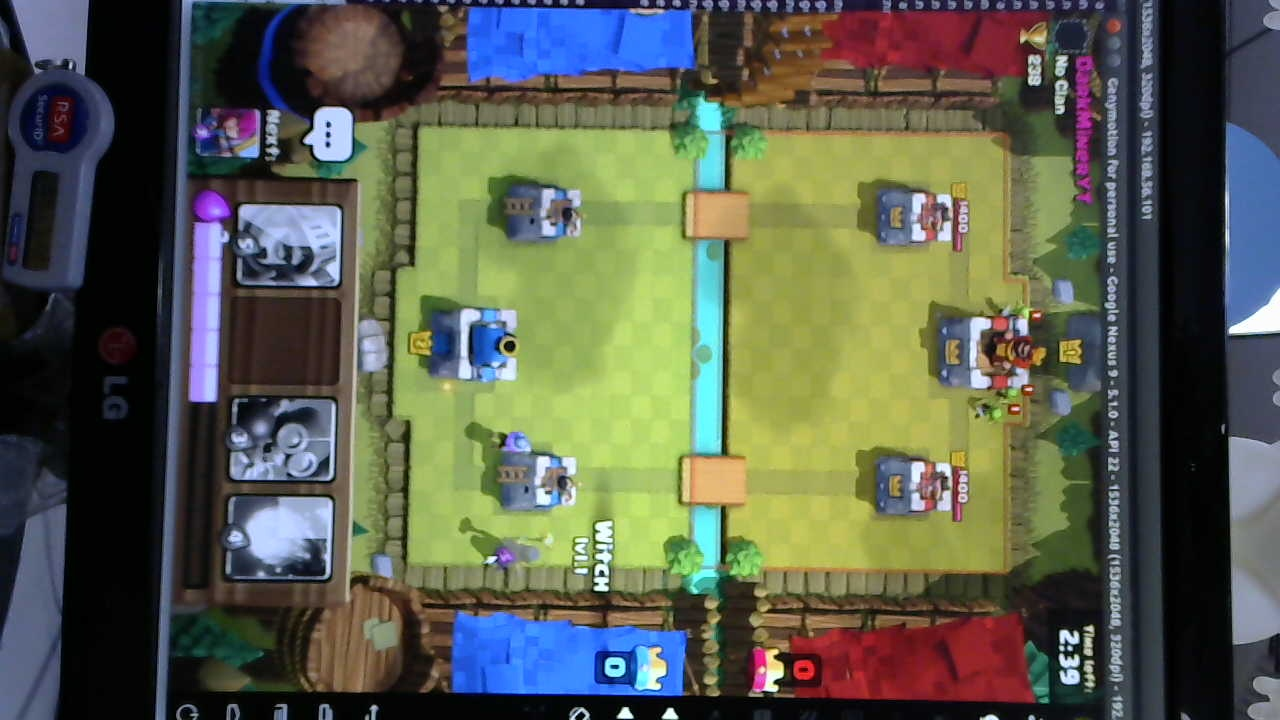arena: (496, 451, 582, 512), (508, 190, 589, 245)
earena: (873, 453, 960, 517), (876, 188, 956, 249)
eking: (937, 317, 1045, 393)
goblin: (990, 298, 1046, 327)
goblins: (963, 386, 1027, 422)
king: (433, 310, 524, 380)
musketeer: (483, 426, 536, 456)
